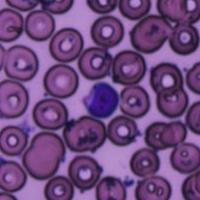L: (84, 81, 119, 118)
